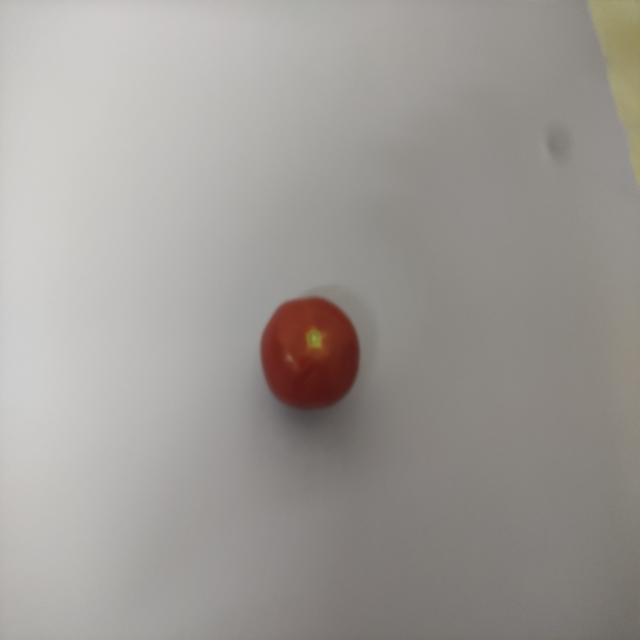kirmizi: (246, 288, 376, 426)
